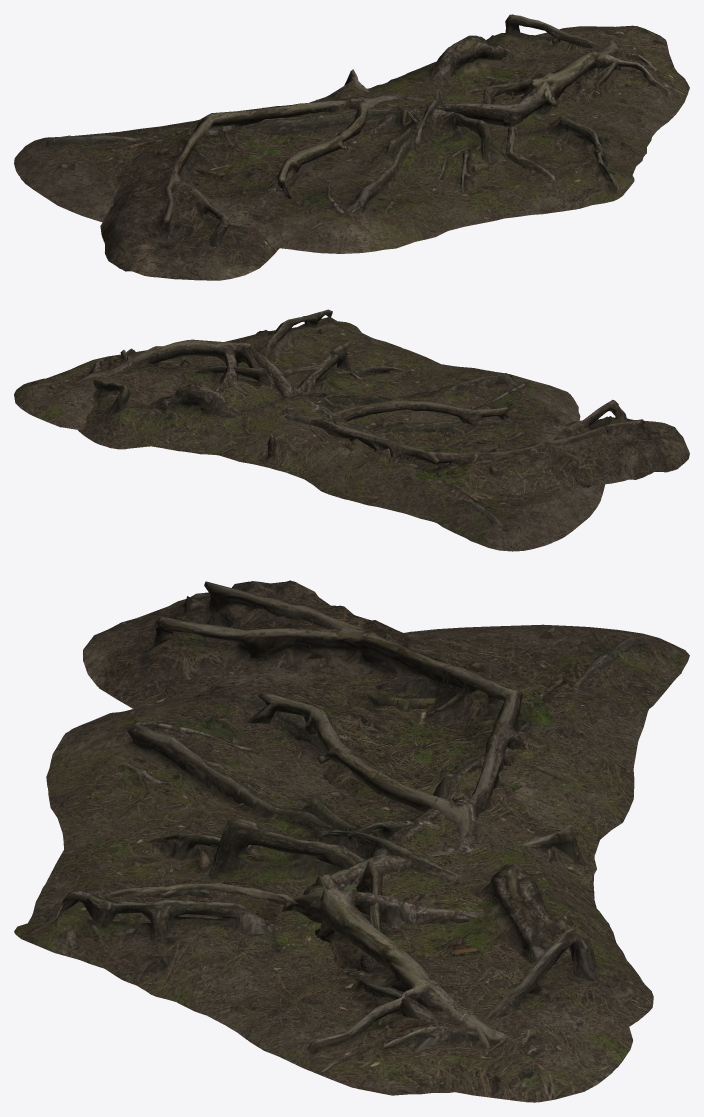
File: pine_roots.glb
3 views of the same model, one above another, from view 1: azimuth 30°, elevation 25°; view 2: azimuth 150°, elevation 25°; view 3: azimuth 270°, elevation 25° (orthographic). The views are drawn at different scales.
Size of the model in its own units: 1.74 by 0.1473 by 0.9938.
Materials: 2 (2 with a texture image).
